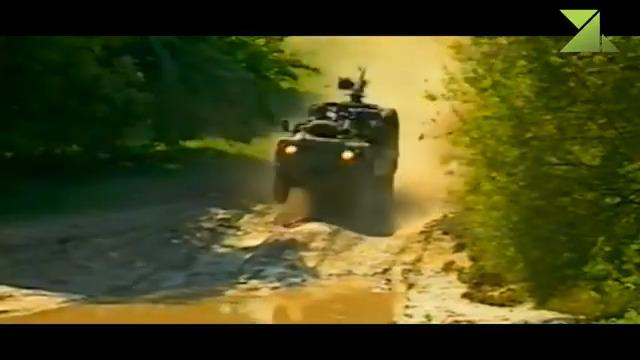MIL_HMMWV: (270, 100, 400, 207)
